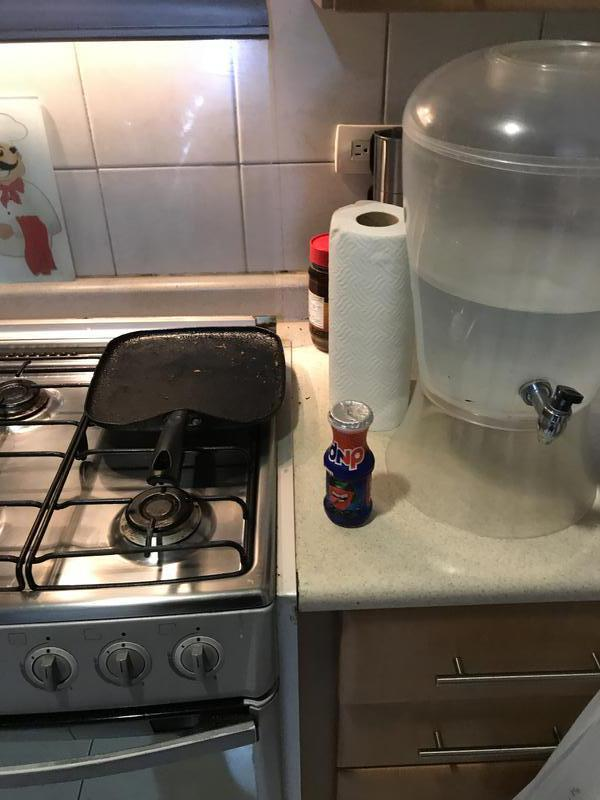danup: (322, 400, 374, 525)
